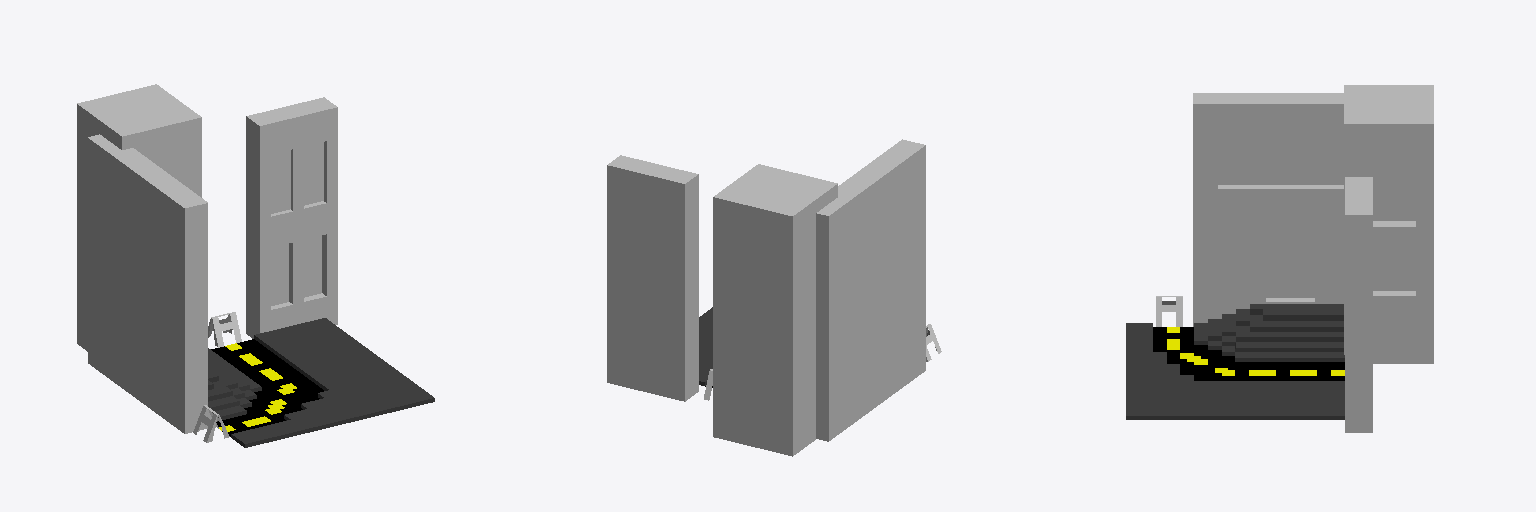
File: building_3.obj
3 views of the same model, side by side, from view 1: azimuth 30°, elevation 25°; view 2: azimuth 150°, elevation 25°; view 3: azimuth 270°, elevation 25° (orthographic).
Parts seen in each view (by area): view 1: Cube.003_Cube.006, Cube.002_Cube.004, Plane_Plane.001, Cube.004_Cube.007, Plane.001_Plane.002, Plane.002_Plane.003, Cube_Cube.002, Cube.001_Cube.003; view 2: Cube.004_Cube.007, Cube.003_Cube.006, Cube.002_Cube.004, Plane_Plane.001; view 3: Cube.003_Cube.006, Cube.004_Cube.007, Plane_Plane.001, Cube.002_Cube.004, Plane.001_Plane.002, Plane.002_Plane.003, Cube.001_Cube.003.
Part boxes in pixels (x1,y1,x2,y2): Cube.003_Cube.006: (88,134,207,433); Cube.002_Cube.004: (246,97,337,338); Plane_Plane.001: (208,318,434,447); Cube.004_Cube.007: (77,84,201,351); Plane.001_Plane.002: (211,339,323,436); Plane.002_Plane.003: (219,343,296,431); Cube_Cube.002: (208,312,241,347); Cube.001_Cube.003: (193,405,229,442); Cube.004_Cube.007: (713,164,837,456); Cube.003_Cube.006: (816,139,925,441); Cube.002_Cube.004: (607,155,698,401); Plane_Plane.001: (699,307,929,385); Cube.003_Cube.006: (1193,93,1343,326); Cube.004_Cube.007: (1344,85,1433,363); Plane_Plane.001: (1126,304,1344,419); Cube.002_Cube.004: (1345,177,1372,432); Plane.001_Plane.002: (1153,327,1344,380); Plane.002_Plane.003: (1167,327,1344,375); Cube.001_Cube.003: (1156,296,1182,326).
Size of the model in its own units: 19.38 by 19.52 by 22.59.